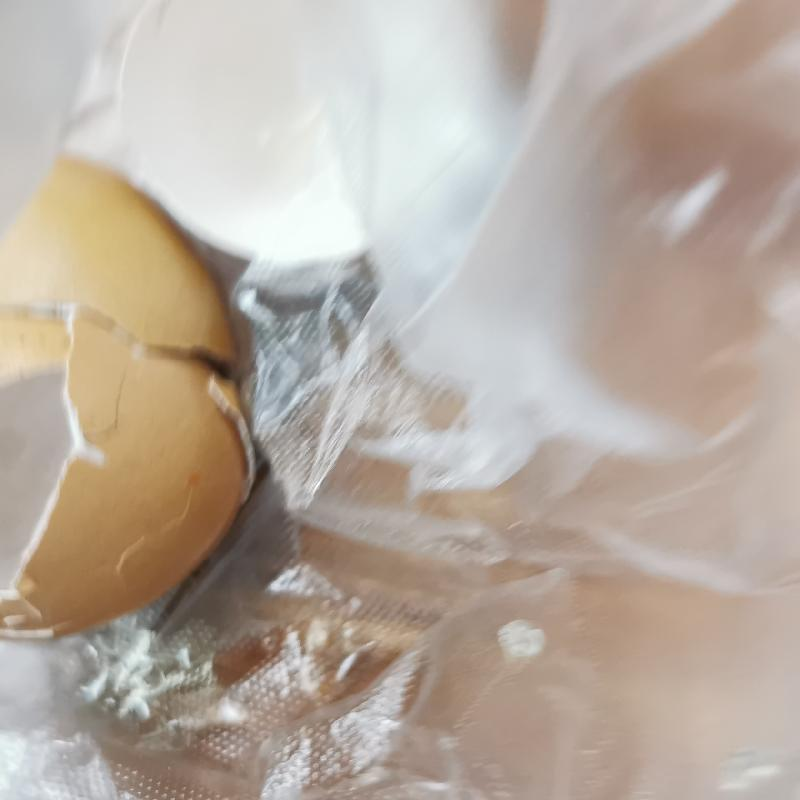eggshell: (2, 157, 263, 639)
